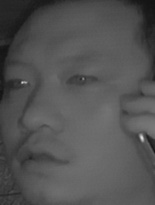eye: (65, 69, 97, 90), (5, 75, 33, 93)
mouth: (12, 137, 72, 175)
